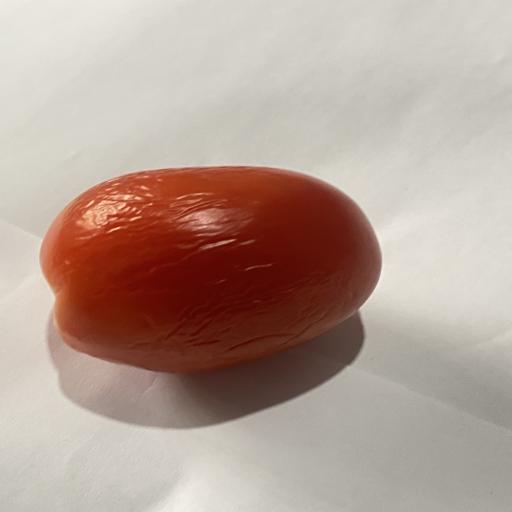spoiled: (40, 167, 381, 373)
